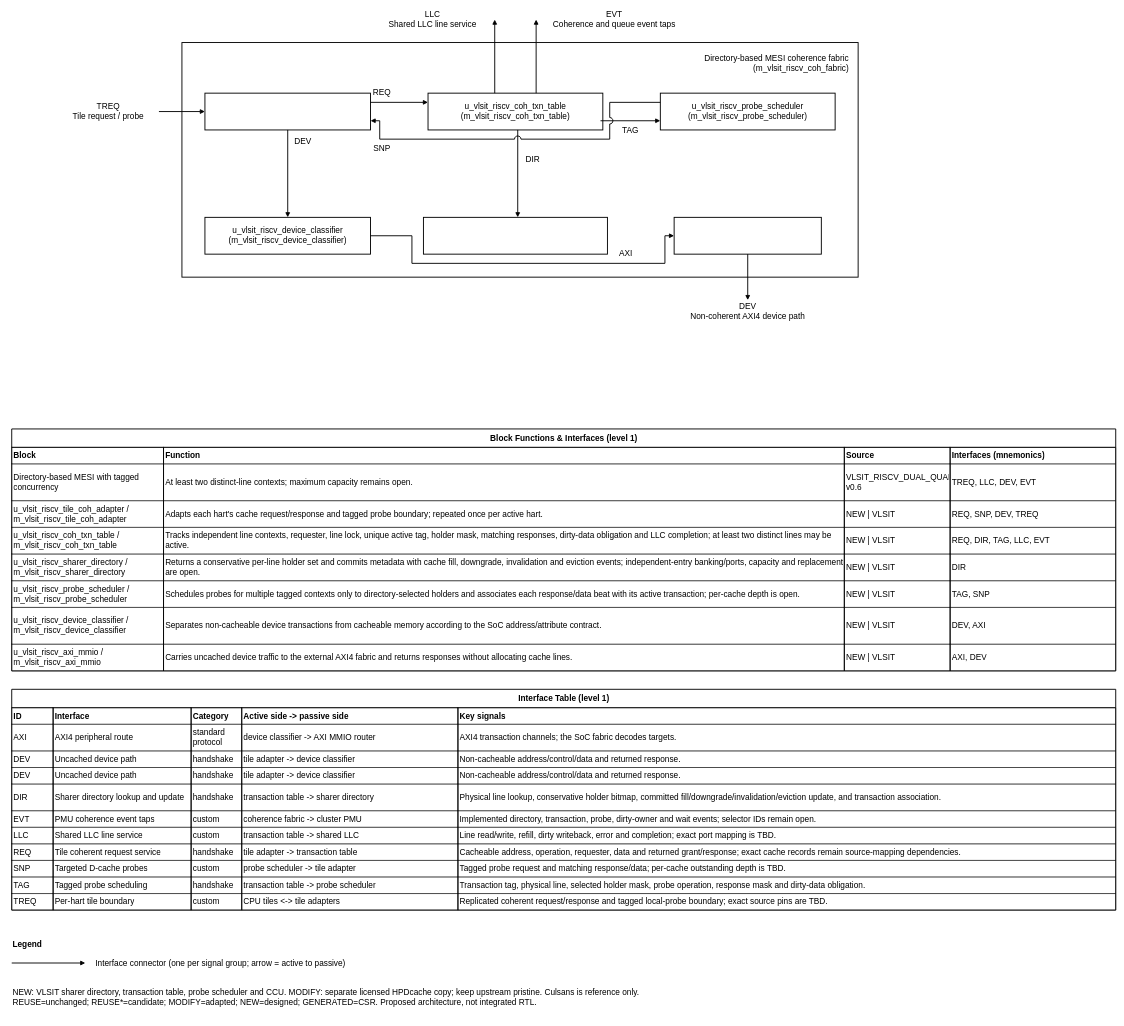
This 1124x1026 diagram has some shape labels left out. Each missing label, with the box of its shape:
u_vlsit_riscv_axi_mmio (m_vlsit_riscv_axi_mmio): (673, 217, 822, 254)
u_vlsit_riscv_sharer_directory (m_vlsit_riscv_sharer_directory): (423, 217, 608, 254)
u_vlsit_riscv_tile_coh_adapter (m_vlsit_riscv_tile_coh_adapter): (204, 92, 371, 130)
